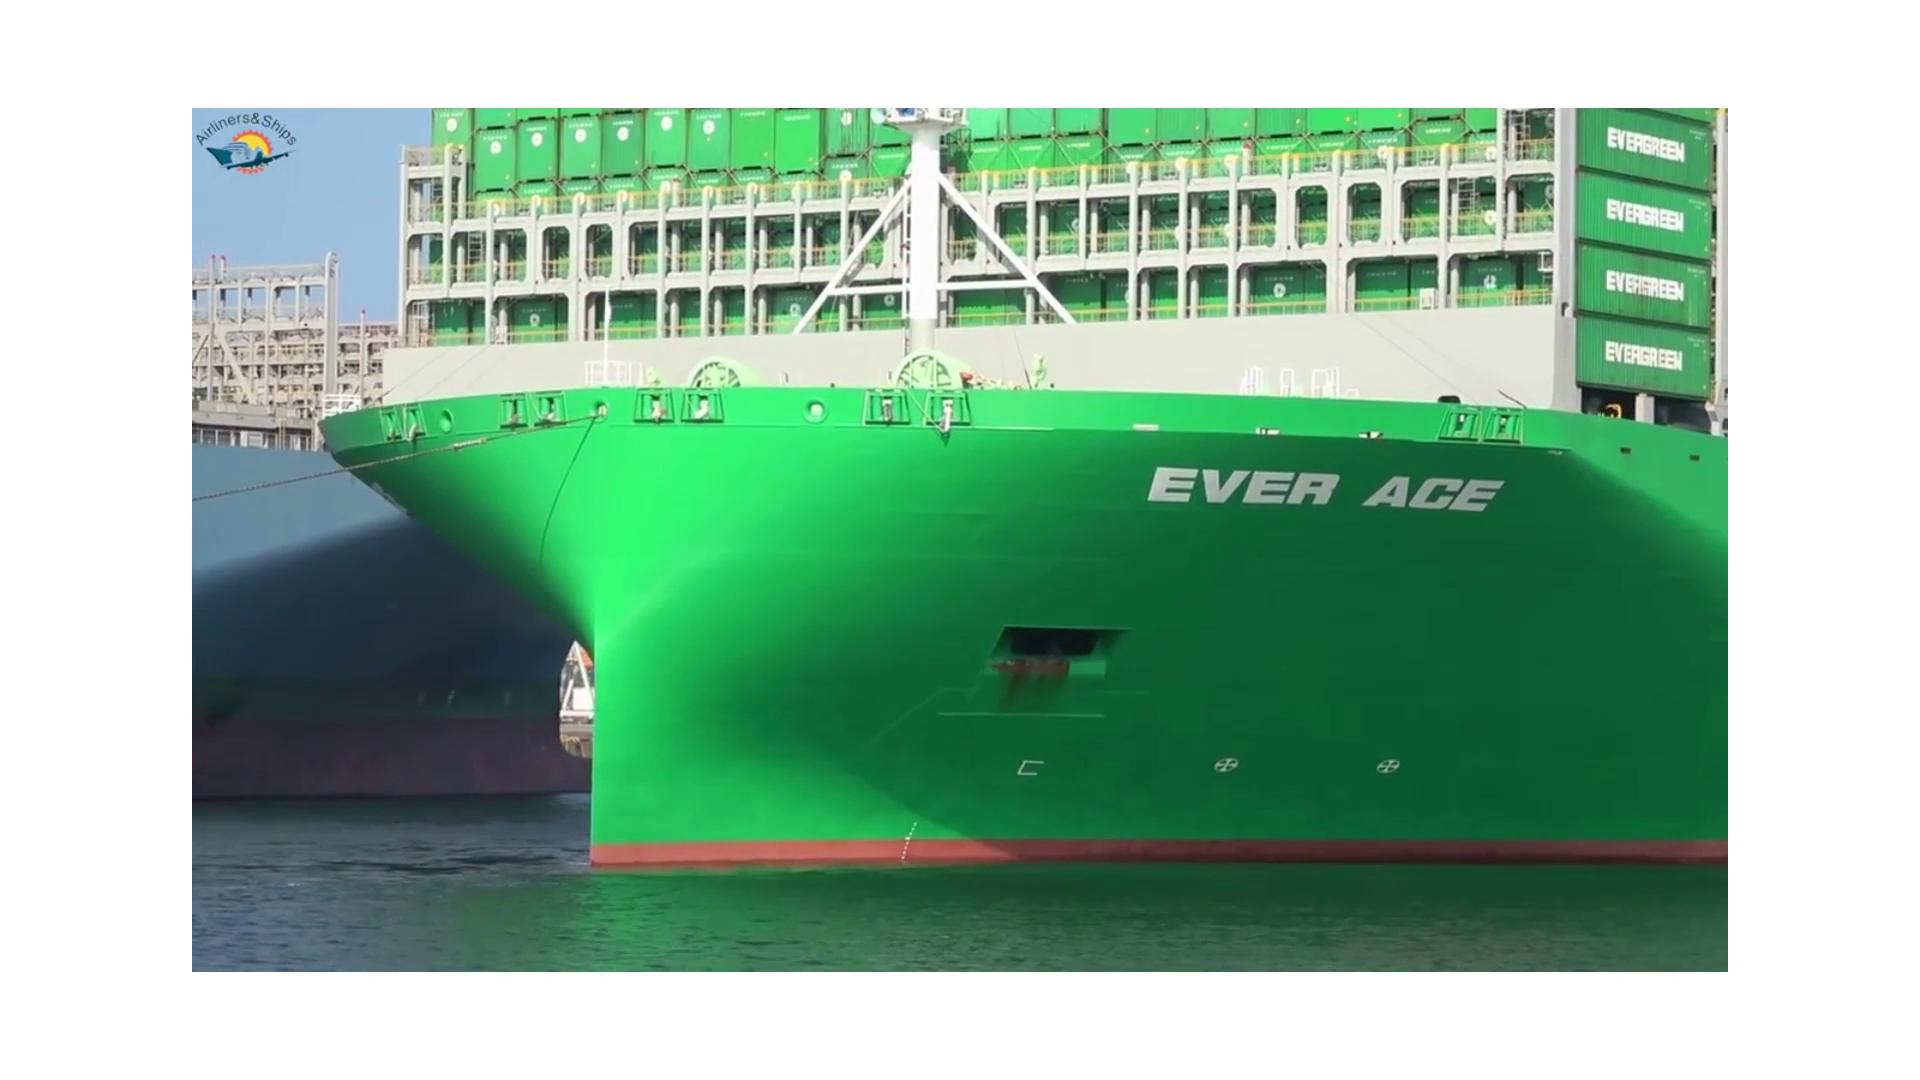OCR: (1120, 451, 1534, 560)
